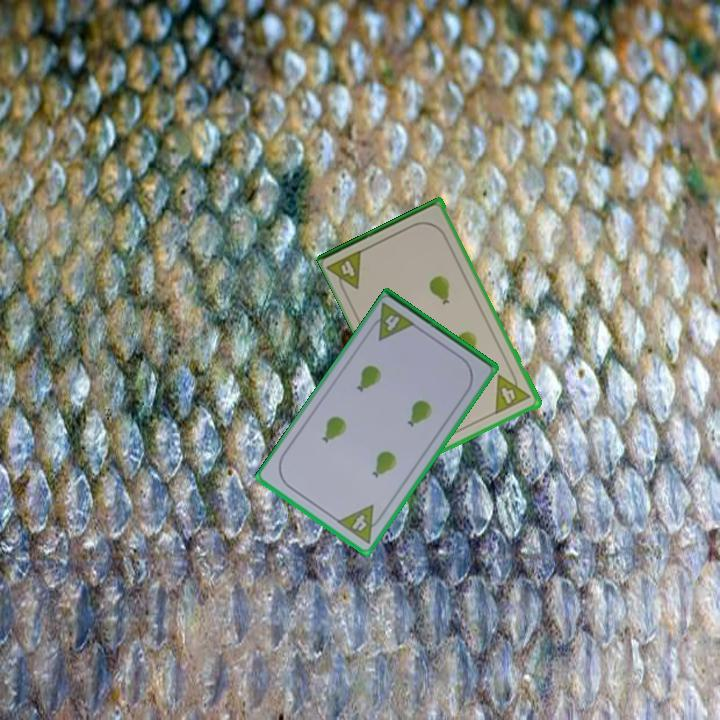4p: (333, 501, 388, 547), (365, 300, 419, 343), (325, 246, 367, 298), (492, 366, 534, 416)
